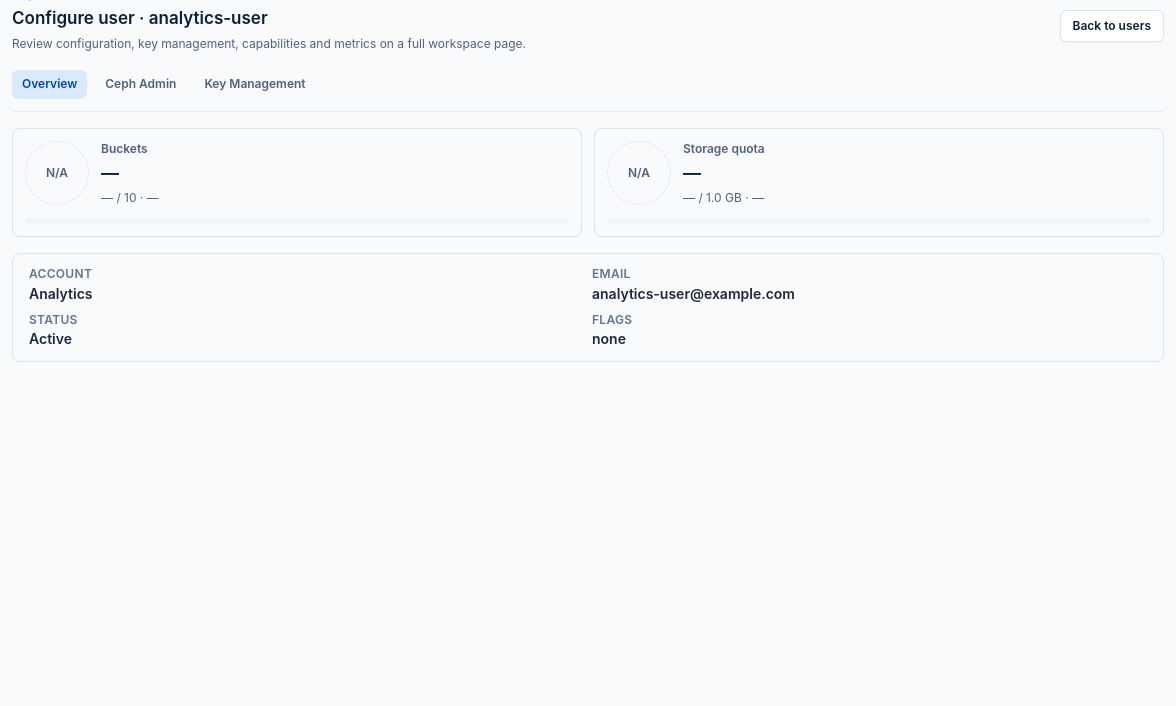
Scenario: Ceph Admin entity editor layout › uses the same page hierarchy for RGW user configuration
The image size is (1176, 706).
Expected: the text "analytics-user@example.com" is shown, [592, 285, 795, 302]
Expected: the number of headings is 1, [12, 6, 268, 30]
Click the tab "Ceph Admin" at [141, 84], box [95, 70, 186, 98]
(page scrolled)
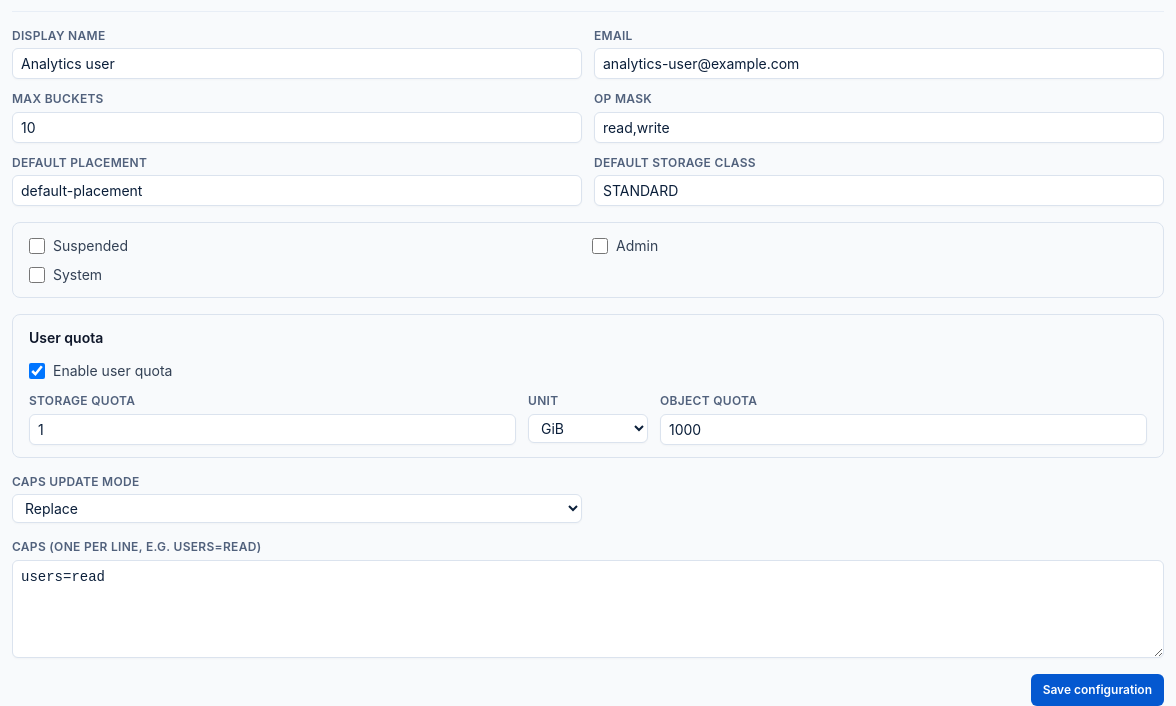
Result: the panel shows "Display name" at [12, 28, 106, 42]
